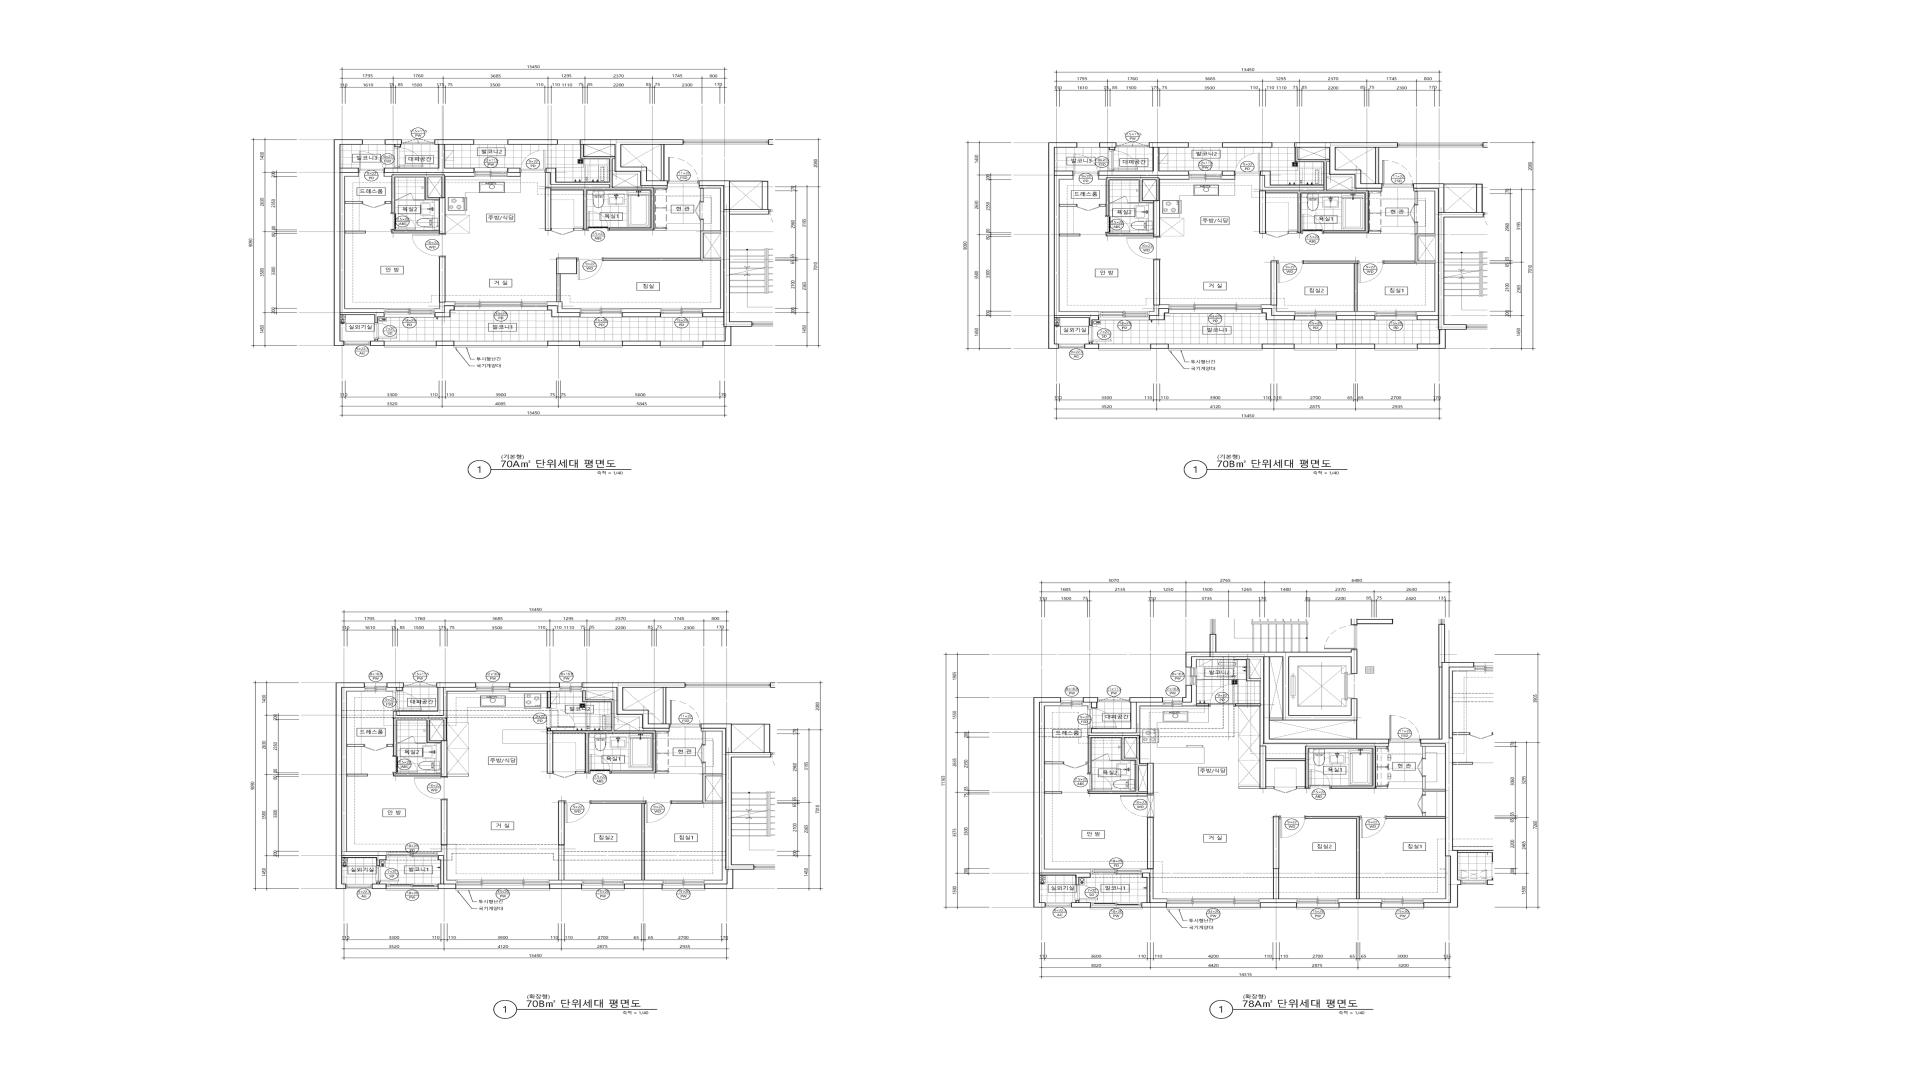door: (1382, 160, 1414, 187), (1389, 715, 1420, 741), (667, 157, 699, 183), (669, 700, 700, 727), (1324, 625, 1357, 650), (1120, 794, 1154, 818), (1126, 236, 1160, 260), (413, 233, 446, 257), (1109, 150, 1138, 171), (1209, 684, 1236, 707), (1279, 816, 1305, 839), (1360, 816, 1386, 839), (564, 800, 591, 823), (645, 800, 671, 823), (1234, 153, 1261, 175), (520, 150, 546, 173), (1088, 708, 1117, 728), (394, 148, 423, 167), (1358, 261, 1383, 284), (1278, 261, 1304, 282), (576, 258, 603, 280), (547, 708, 575, 728), (393, 691, 421, 711), (359, 152, 384, 173), (1073, 154, 1098, 175), (1302, 214, 1324, 233), (587, 211, 609, 231), (1308, 770, 1331, 789), (588, 754, 611, 773), (1088, 774, 1112, 791), (1106, 216, 1130, 233), (393, 756, 417, 773), (392, 214, 415, 229), (1076, 885, 1098, 901), (1089, 326, 1112, 342), (375, 323, 397, 339), (377, 866, 398, 882), (695, 200, 704, 220), (1063, 762, 1087, 769), (553, 771, 576, 778), (1274, 786, 1296, 793), (1077, 204, 1100, 211), (1266, 231, 1288, 237), (551, 228, 574, 235), (363, 202, 385, 208), (1092, 753, 1110, 761), (1418, 758, 1425, 777), (1410, 204, 1418, 223), (397, 736, 415, 744), (1418, 795, 1425, 812), (396, 193, 413, 200), (698, 745, 705, 762), (364, 745, 386, 750), (1110, 196, 1127, 203)
wall: (1185, 634, 1389, 744), (1386, 624, 1458, 907), (1192, 657, 1390, 758), (1259, 142, 1398, 233), (1034, 698, 1091, 907), (700, 724, 771, 889), (1414, 183, 1484, 349), (699, 181, 769, 345), (335, 683, 386, 889), (1048, 142, 1098, 349), (334, 140, 384, 345), (545, 145, 654, 231), (547, 691, 657, 774), (1040, 703, 1091, 873), (342, 687, 386, 856), (1055, 175, 1098, 315), (340, 173, 384, 313), (1259, 746, 1377, 789), (582, 683, 686, 729), (603, 220, 720, 261), (580, 140, 683, 186), (1305, 816, 1360, 899), (591, 800, 645, 880), (702, 729, 727, 884), (582, 687, 670, 731), (1088, 736, 1154, 794), (393, 717, 447, 777), (699, 186, 724, 313), (1106, 178, 1160, 236), (1414, 189, 1437, 315), (384, 140, 475, 173), (1098, 142, 1188, 175), (1303, 261, 1358, 311), (397, 683, 476, 716), (1091, 698, 1163, 733), (393, 687, 476, 717), (1088, 703, 1163, 736), (392, 174, 444, 214), (1327, 162, 1382, 191), (613, 160, 667, 187), (1424, 856, 1451, 903), (550, 845, 582, 884), (1259, 175, 1324, 191), (1142, 873, 1167, 907), (1142, 869, 1167, 902), (438, 845, 455, 884), (438, 856, 455, 889), (1273, 816, 1279, 899), (1419, 236, 1436, 261), (1423, 777, 1445, 795), (705, 777, 723, 800), (1262, 309, 1295, 320), (1420, 744, 1445, 758), (384, 173, 475, 177), (1098, 175, 1188, 179), (1262, 305, 1295, 315), (547, 306, 580, 316), (547, 302, 580, 313), (1147, 818, 1154, 869), (556, 257, 576, 274), (1183, 684, 1197, 707), (1246, 659, 1261, 680), (1154, 260, 1160, 306), (440, 799, 447, 845), (1271, 261, 1278, 306), (439, 257, 446, 302), (430, 720, 443, 742), (558, 800, 564, 845), (1142, 181, 1156, 200), (1350, 618, 1394, 625), (508, 140, 558, 145), (1222, 142, 1273, 148), (1125, 737, 1137, 758), (439, 198, 446, 233), (1149, 309, 1168, 320), (1338, 902, 1381, 907), (1336, 315, 1375, 320), (1149, 305, 1168, 315), (435, 306, 455, 316), (435, 302, 455, 313), (624, 884, 662, 889), (1337, 344, 1375, 349), (509, 687, 559, 691), (509, 683, 559, 687), (392, 229, 439, 233), (1261, 902, 1296, 907), (1183, 684, 1192, 703), (1083, 698, 1098, 708), (1338, 899, 1381, 903), (550, 884, 582, 889), (1262, 344, 1294, 349), (1336, 311, 1375, 315), (624, 880, 662, 884), (622, 309, 661, 313), (622, 342, 661, 345), (622, 313, 661, 316), (1375, 148, 1379, 183), (661, 145, 665, 181), (385, 140, 402, 148), (1100, 142, 1117, 150), (386, 683, 404, 691), (1071, 901, 1091, 907), (547, 342, 579, 345), (671, 800, 703, 804), (1084, 342, 1098, 349), (508, 167, 520, 177), (556, 274, 560, 302), (663, 687, 666, 724), (372, 882, 386, 889), (1261, 899, 1296, 902), (1151, 344, 1168, 349), (371, 339, 384, 345), (1383, 261, 1415, 264), (436, 342, 454, 345), (547, 691, 551, 708), (1236, 704, 1261, 707), (1238, 786, 1259, 789), (447, 774, 468, 777), (345, 231, 365, 233), (700, 189, 704, 202), (1222, 175, 1234, 179), (1222, 171, 1234, 175), (345, 202, 363, 204), (1444, 183, 1477, 185), (1083, 703, 1091, 708), (731, 181, 762, 182), (732, 724, 764, 725), (386, 687, 397, 691), (1196, 704, 1209, 707), (1270, 717, 1283, 720), (1369, 231, 1381, 233), (654, 228, 666, 231), (1377, 786, 1387, 789), (574, 228, 584, 231), (1296, 786, 1305, 789), (1288, 231, 1298, 233), (1266, 786, 1274, 789), (1100, 204, 1106, 207), (385, 202, 392, 204), (386, 744, 393, 746), (413, 199, 425, 200), (657, 771, 669, 773), (1110, 760, 1121, 761), (415, 742, 426, 744), (576, 771, 585, 773), (1423, 812, 1425, 816), (1087, 762, 1088, 765), (1357, 720, 1357, 738), (1127, 203, 1139, 203)
window: (1166, 899, 1261, 910), (455, 880, 550, 890), (1168, 305, 1262, 314), (455, 302, 547, 310), (1168, 344, 1262, 351), (454, 342, 547, 348), (1381, 898, 1424, 910), (1091, 869, 1142, 878), (384, 309, 435, 318), (1098, 311, 1149, 320), (1296, 899, 1338, 910), (662, 880, 704, 890), (582, 880, 624, 890), (1091, 902, 1142, 910), (1375, 311, 1418, 320), (1295, 311, 1337, 320), (661, 309, 703, 318), (580, 309, 622, 318), (1098, 344, 1151, 351), (384, 342, 436, 348), (475, 167, 508, 177), (1294, 344, 1337, 351), (1374, 344, 1418, 351), (579, 342, 622, 348), (661, 342, 703, 348), (386, 852, 438, 857), (386, 885, 438, 890), (1188, 171, 1222, 179), (476, 683, 509, 691), (1098, 696, 1130, 703), (1117, 141, 1149, 148), (402, 138, 434, 145), (1060, 698, 1083, 707), (1185, 667, 1197, 684), (1163, 698, 1183, 707), (1188, 142, 1222, 148), (473, 140, 508, 145), (559, 683, 582, 691), (364, 683, 386, 691), (404, 682, 436, 687), (1059, 344, 1084, 349), (1077, 142, 1100, 148), (1273, 142, 1295, 148), (363, 140, 385, 145), (558, 140, 580, 145), (345, 885, 372, 889), (344, 342, 371, 345), (1046, 903, 1071, 907)
